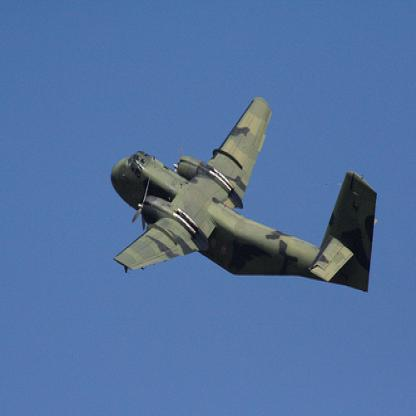aeroplane: (111, 96, 382, 292)
